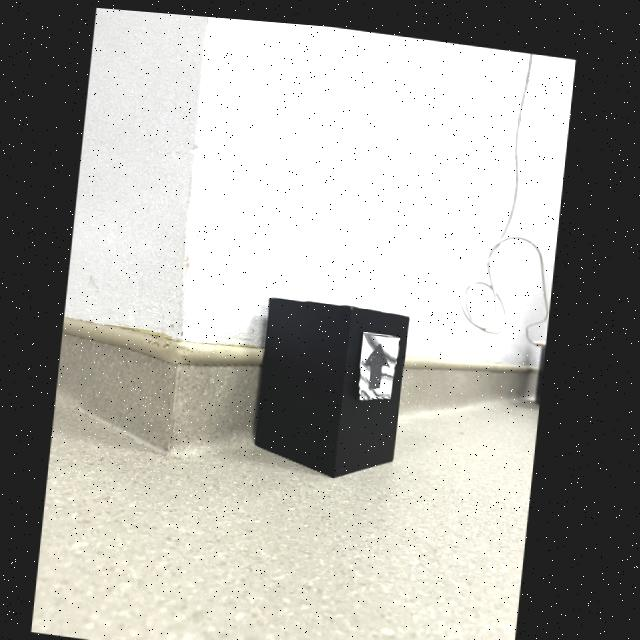UP: (368, 338, 392, 383)
